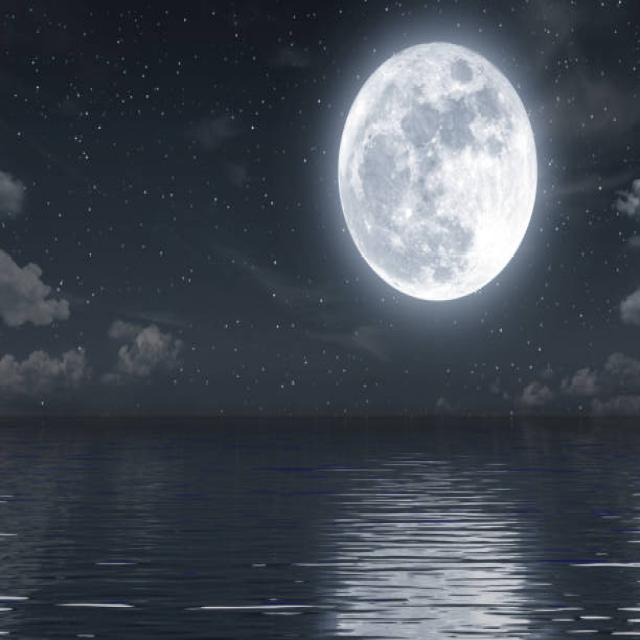moon: (335, 37, 537, 303)
